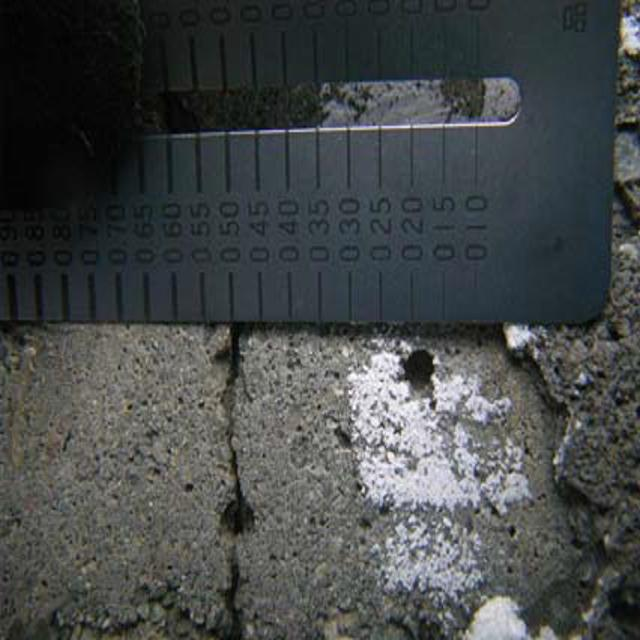crack: (192, 336, 292, 636)
